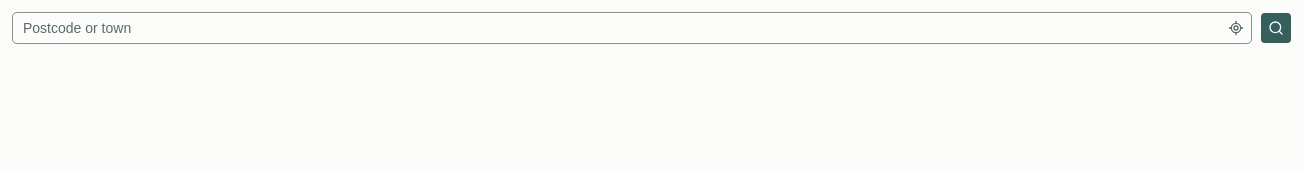
Test: SearchBox › says so when no UK postcode is near
Step 1. Click the 1st button named "Use my location" → [1236, 28], box [1222,14,1250,42]
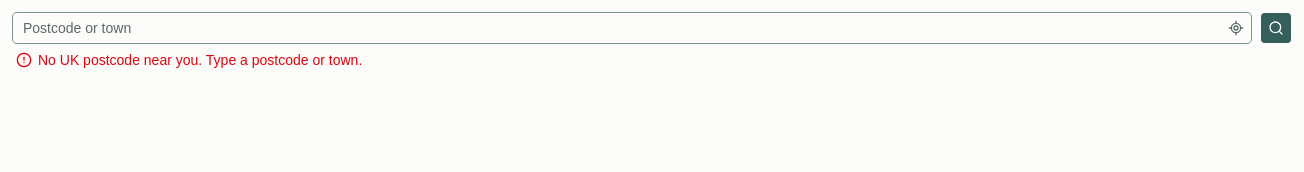
Now the message reads "No UK postcode near you. Type a postcode or town.", box [38,52,362,68]
